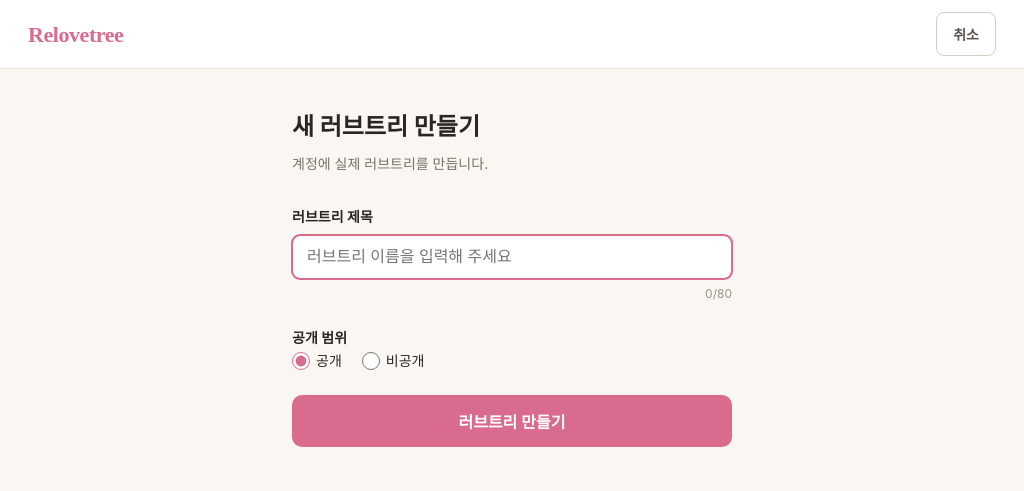
it: CreateTreePage — /tree/new › shows private visibility note when private selected
Click the radio button labelled "비공개". click: click(371, 360)
box: left=362, top=352, right=380, bottom=370
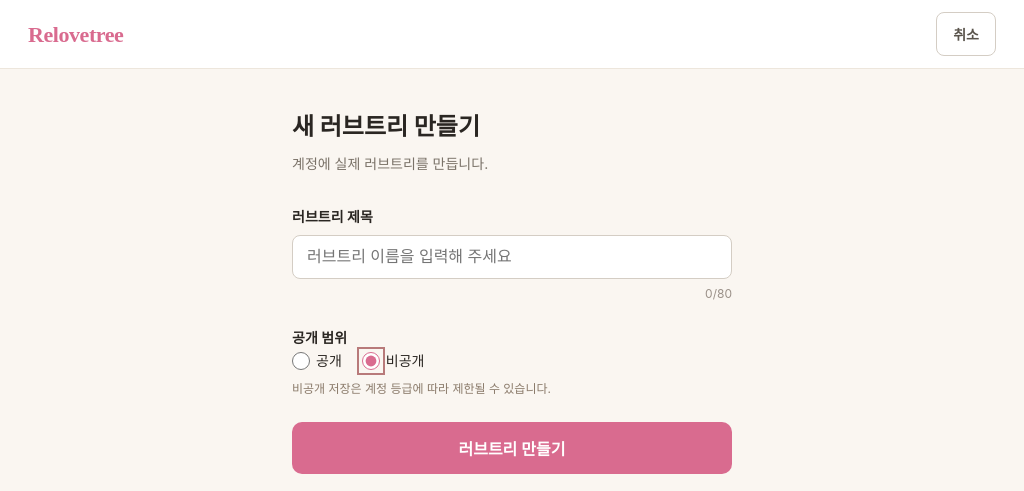
Expected: the text "비공개 저장은 계정 등급에 따라 제한될 수 있습니다." is shown, left=292, top=381, right=551, bottom=396
